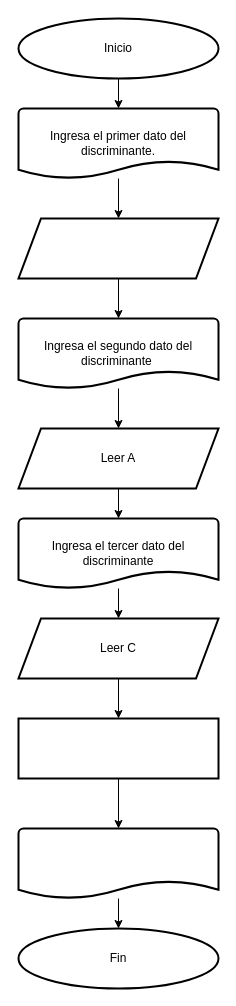
The diagram is 236 pixels wide and 1006 high, and some of its shapes have lost their labels. Here are the shapes that lost their labels. From the top down, the centre of each, then its label:
(x=118, y=248): Leer B
(x=118, y=748): Discriminante = (B**2)-4A*C
(x=118, y=863): El discriminante es igual a, "Discriminante"
